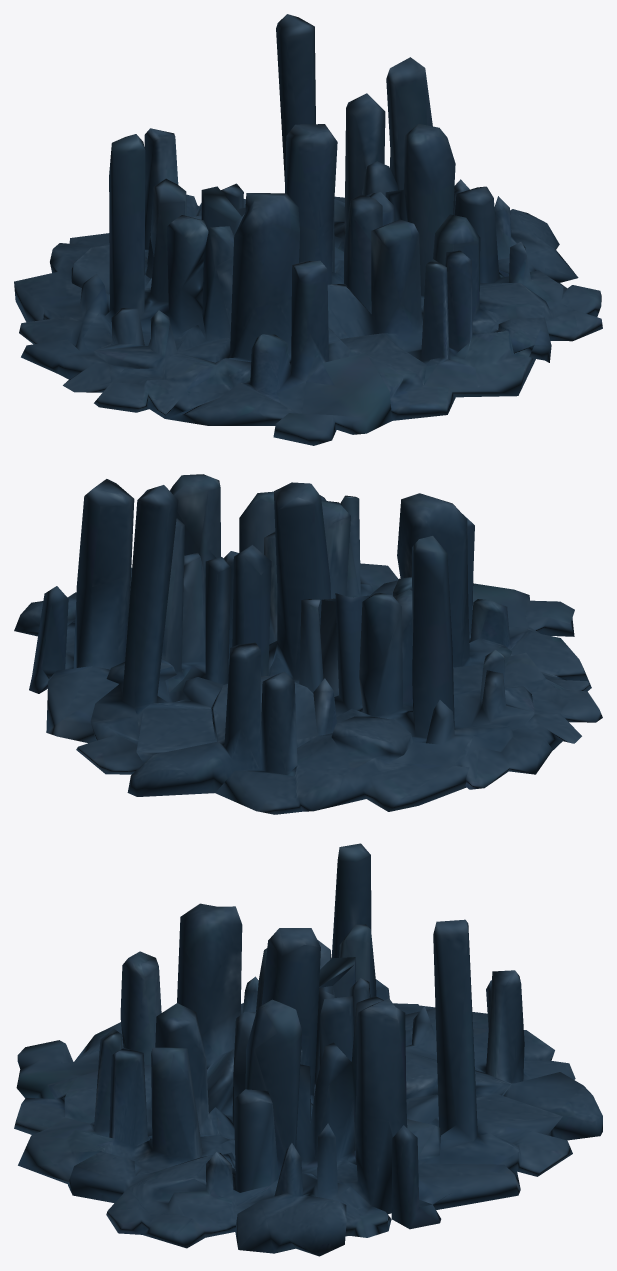
Rendered from rock-basalt-columns.lod.glb.
3 renders of one model, top to bottom at view 1: azimuth 30°, elevation 25°; view 2: azimuth 150°, elevation 25°; view 3: azimuth 270°, elevation 25°, orthographic. The views are drawn at different scales.
Size of the model in its own units: 1.89 by 0.8035 by 1.79.
Materials: 1 (1 with a texture image).
